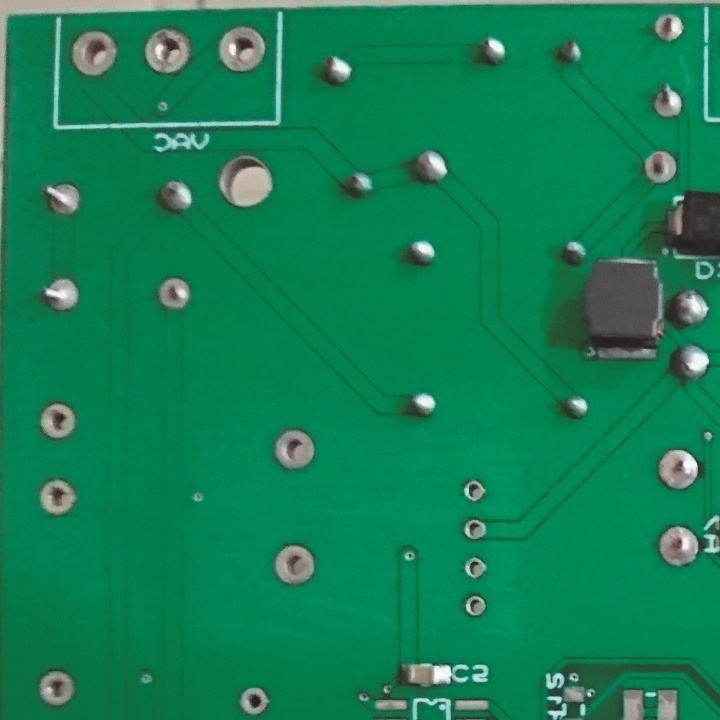F: (66, 26, 121, 81), (141, 26, 196, 78), (217, 24, 270, 75), (655, 523, 701, 571), (270, 428, 318, 474), (270, 543, 319, 587), (656, 447, 701, 494), (39, 273, 84, 317), (42, 178, 84, 220), (38, 477, 81, 518), (36, 668, 77, 709), (36, 402, 80, 440), (154, 273, 193, 312), (641, 148, 681, 186), (650, 80, 686, 120), (652, 11, 686, 45), (239, 684, 272, 715), (463, 593, 490, 619), (463, 517, 488, 543), (463, 557, 490, 580), (461, 480, 487, 503)
